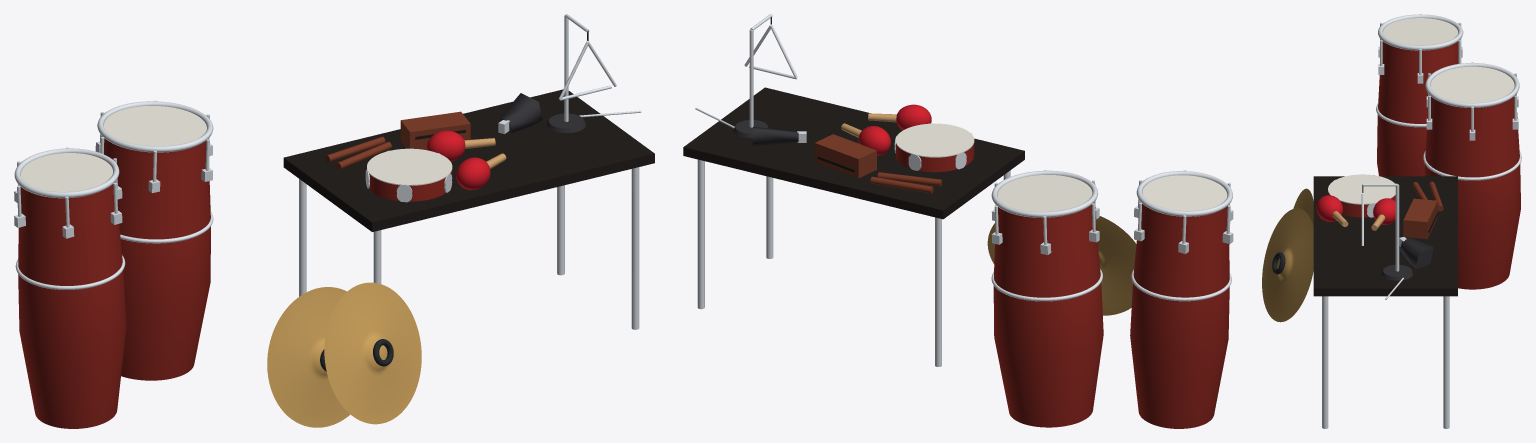
File: petites-percussions.glb
The picture shows the model from 3 angles, left to right: view 1: azimuth 30°, elevation 25°; view 2: azimuth 150°, elevation 25°; view 3: azimuth 270°, elevation 25°; orthographic projection. The views are drawn at different scales.
Visible parts, largest first — view 1: Petites percussions; view 2: Petites percussions; view 3: Petites percussions.
Boxes of the visible parts, x1=… form: Petites percussions: x1=14, y1=14, x2=654, y2=428; Petites percussions: x1=683, y1=14, x2=1233, y2=428; Petites percussions: x1=1262, y1=14, x2=1521, y2=428.
Size of the model in its own units: 1.97 by 0.9096 by 0.9001.
